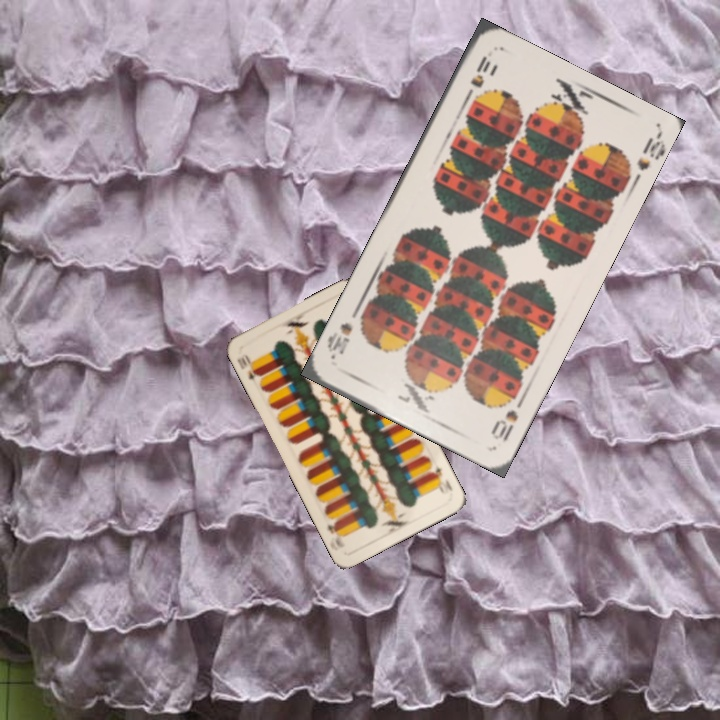E10: (233, 351, 263, 386), (426, 462, 455, 496)
S10: (487, 389, 528, 444), (460, 51, 494, 105)
